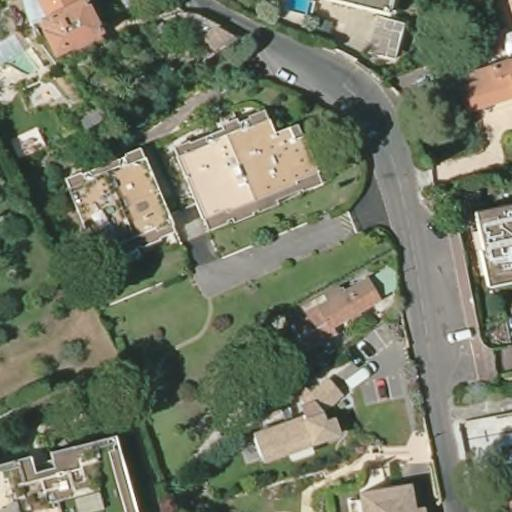pool: (282, 0, 314, 20)
